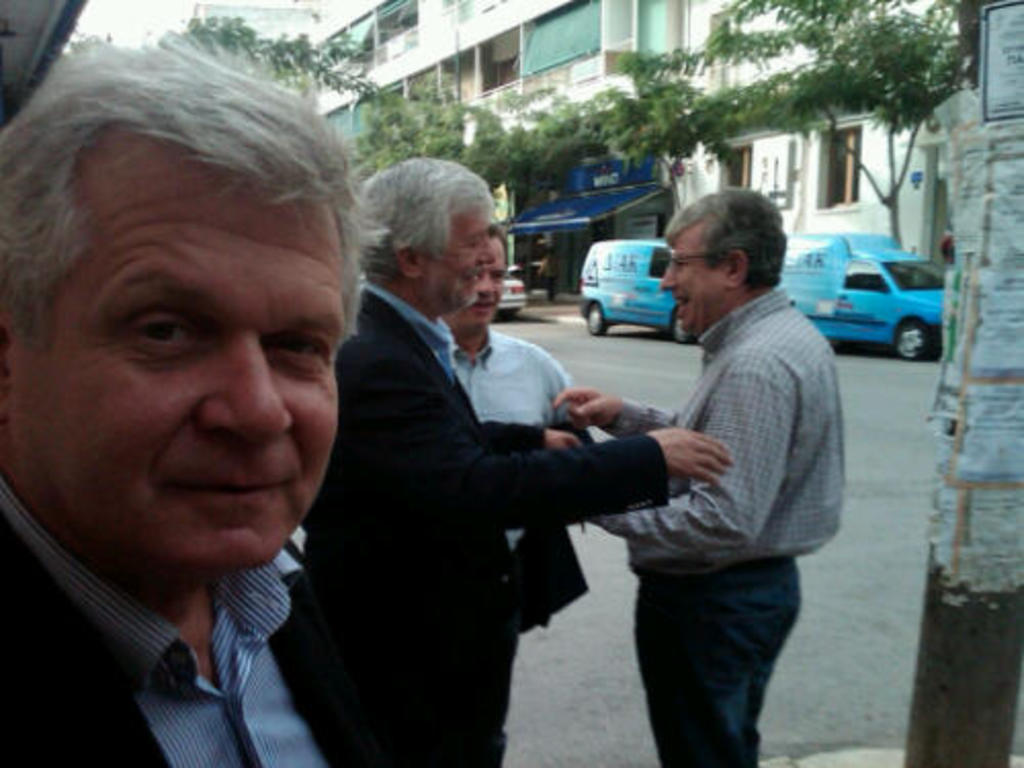Human-face: (29, 156, 346, 578), (424, 213, 496, 313), (662, 242, 725, 338), (467, 244, 510, 324)
